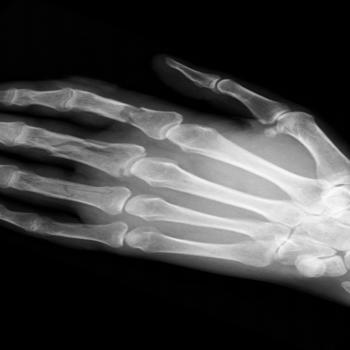Fracture: (49, 134, 114, 163), (57, 179, 115, 204), (110, 99, 155, 126)
